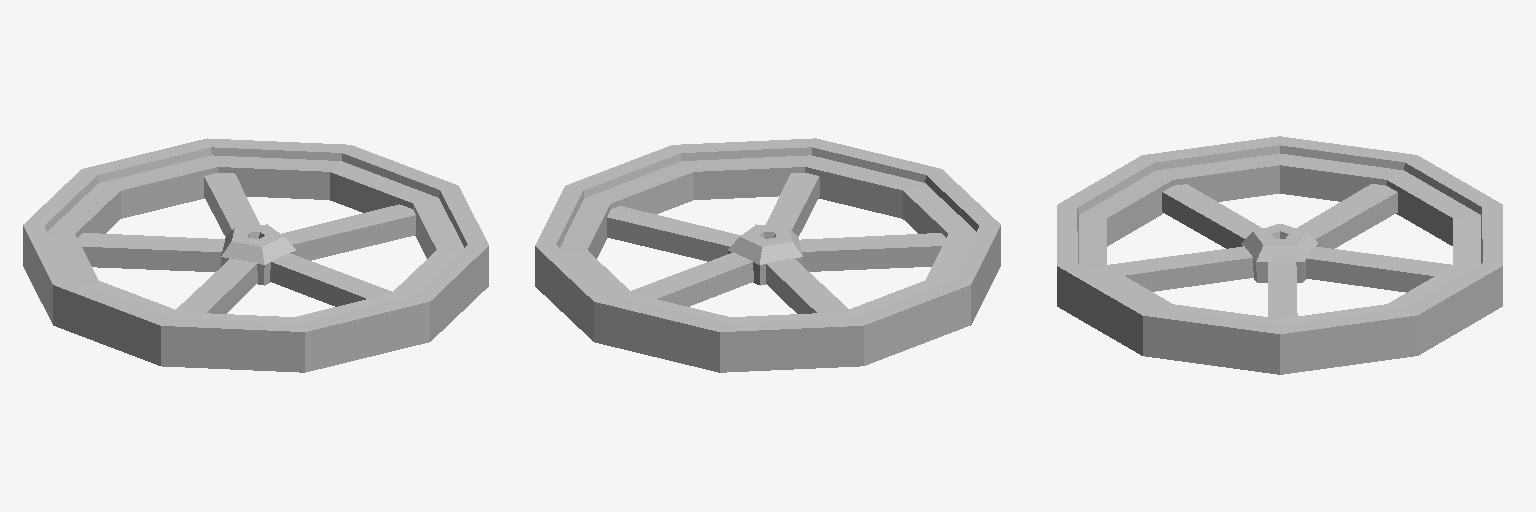
Rendered from Wheel.obj.
3 renders of one model, left to right at view 1: azimuth 30°, elevation 25°; view 2: azimuth 150°, elevation 25°; view 3: azimuth 270°, elevation 25°, orthographic.
Visible parts, largest first — view 1: Wheel; view 2: Wheel; view 3: Wheel.
Part boxes in pixels (x1,y1,x2,y2): Wheel: (23, 138, 488, 372); Wheel: (535, 138, 1000, 372); Wheel: (1057, 136, 1502, 374).
Bounding box in the file's own units: 0.9483 × 0.0924 × 0.9024.